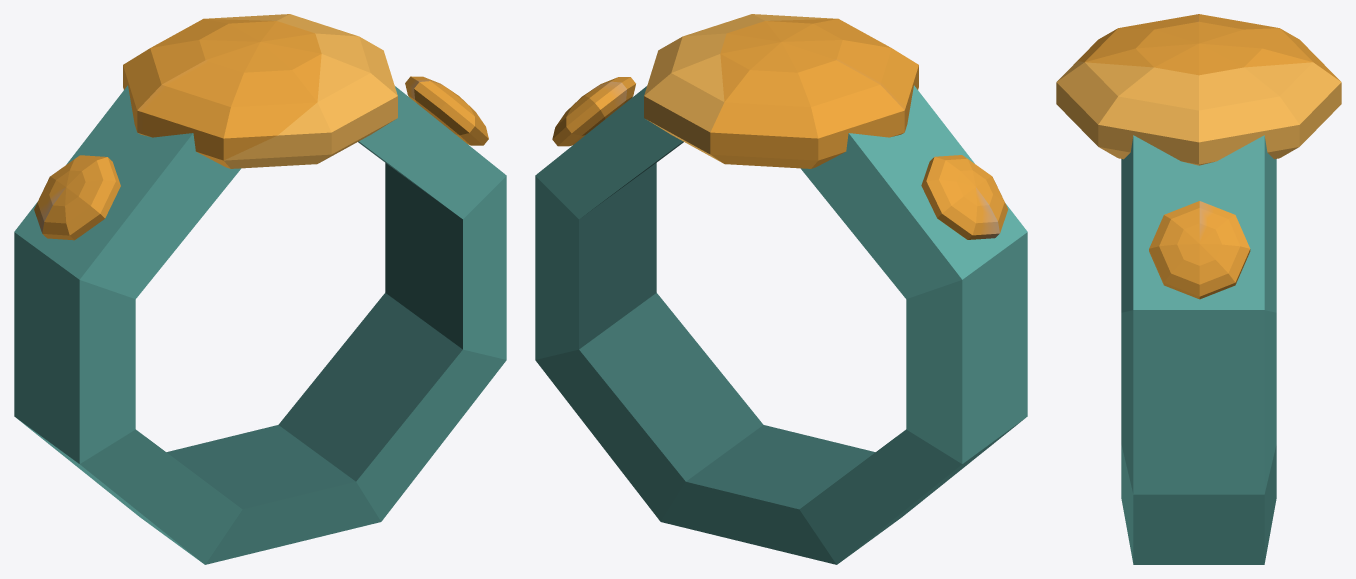
The model's file is Item_Ring_04.fbx.
The picture shows the model from 3 angles, left to right: view 1: azimuth 30°, elevation 25°; view 2: azimuth 150°, elevation 25°; view 3: azimuth 270°, elevation 25°; orthographic projection.
Visible parts, largest first — view 1: SM_Item_Ring_04; view 2: SM_Item_Ring_04; view 3: SM_Item_Ring_04.
Boxes of the visible parts, x1,y1,x2,y2 form: SM_Item_Ring_04: (14,14,506,564); SM_Item_Ring_04: (535,14,1027,564); SM_Item_Ring_04: (1056,14,1341,564).
Bounding box in the file's own units: 5.2 × 5.41 × 2.92.
